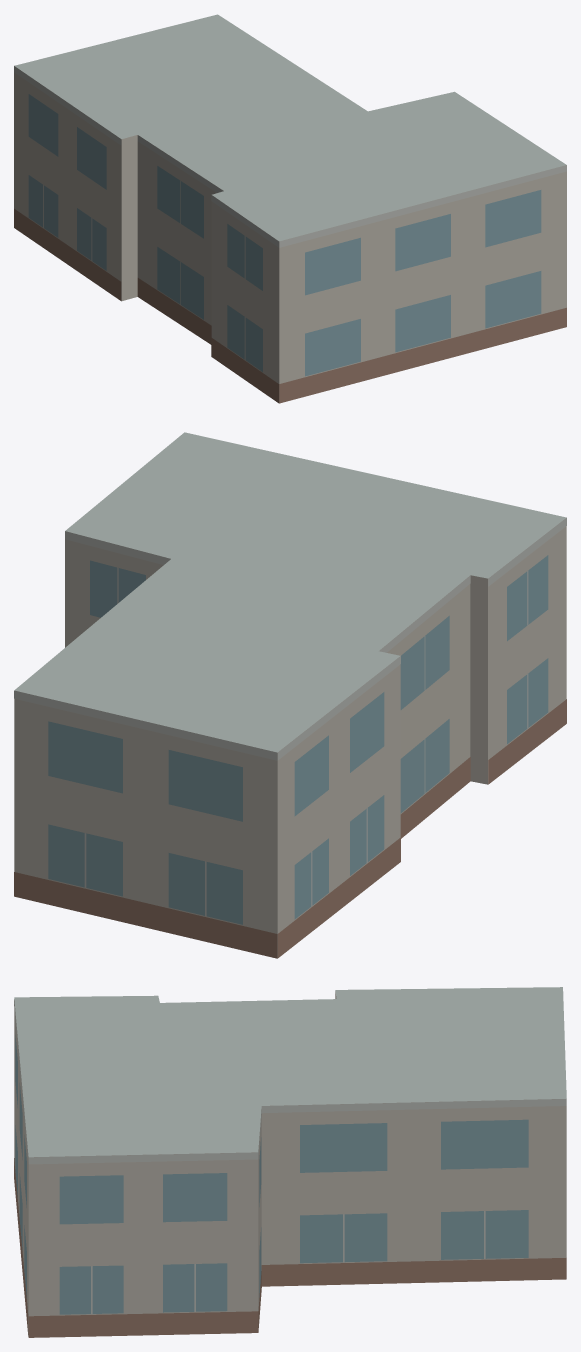
The model's file is survey-upis-32879152.glb.
The picture shows the model from 3 angles, top to bottom: view 1: azimuth 30°, elevation 25°; view 2: azimuth 150°, elevation 25°; view 3: azimuth 270°, elevation 25°; orthographic projection. The views are drawn at different scales.
Visible parts, largest first — view 1: survey-upis-32879152.tmp; view 2: survey-upis-32879152.tmp; view 3: survey-upis-32879152.tmp.
Part boxes in pixels (bbox=[...]): survey-upis-32879152.tmp: bbox=[14, 14, 566, 403]; survey-upis-32879152.tmp: bbox=[14, 432, 566, 958]; survey-upis-32879152.tmp: bbox=[14, 987, 566, 1337].
Bounding box in the file's own units: 12.34 × 6.1 × 16.93.
